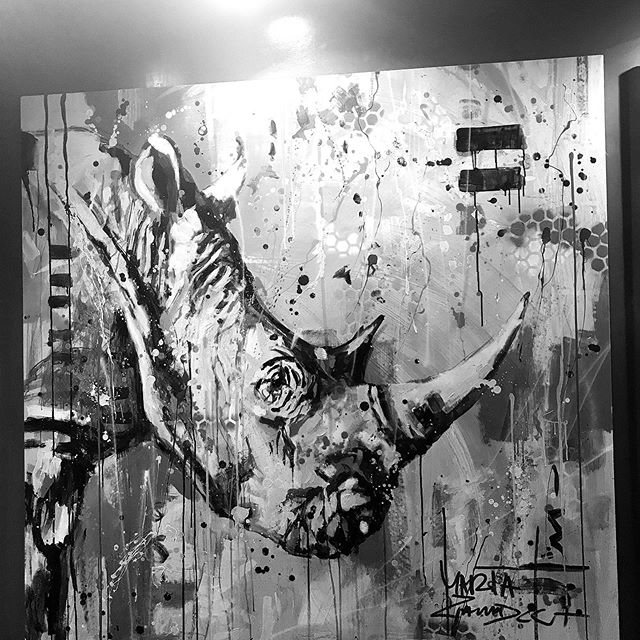graffiti: (15, 55, 610, 629)
